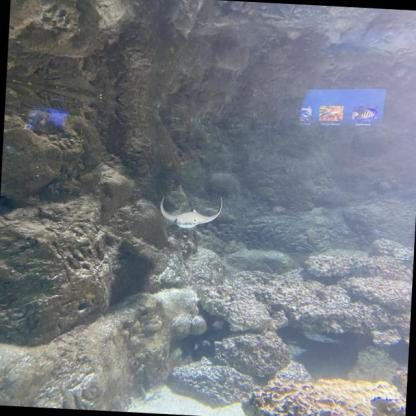stingray: (158, 194, 224, 230)
